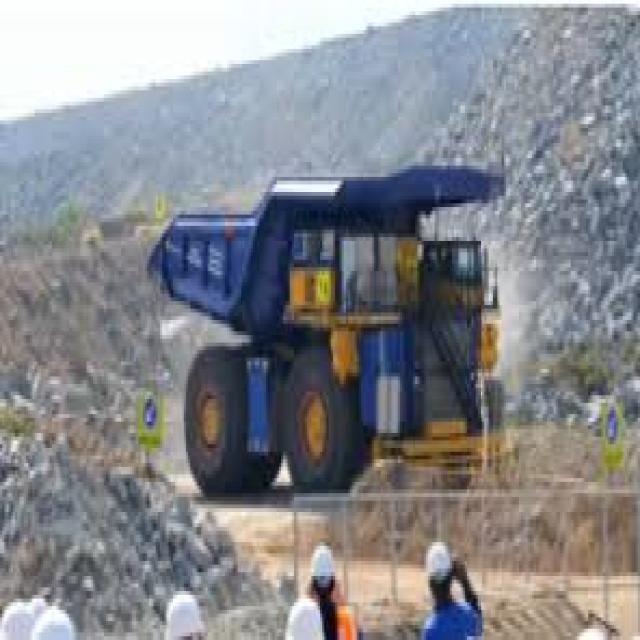dump_truck: (130, 140, 512, 508)
